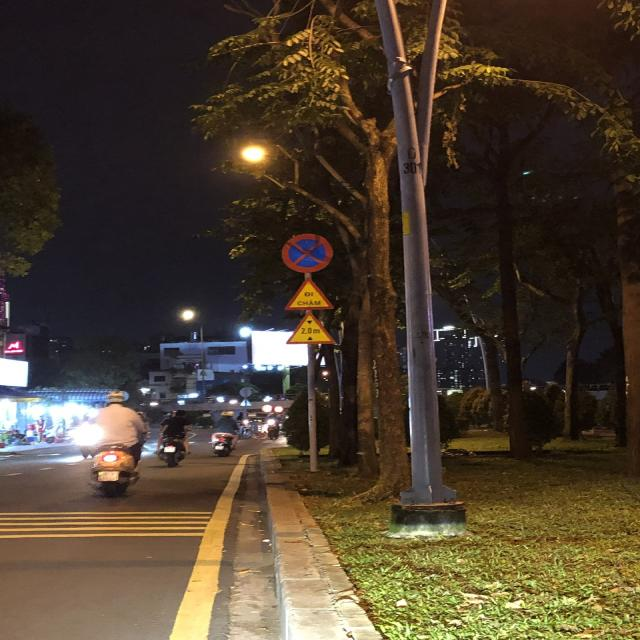Bien bao cam dung xe va do xe: (278, 227, 338, 276)
Bien bao chieu cao tinh khong thuc te: (284, 312, 339, 349)
Bien bao di cham: (284, 278, 336, 315)
